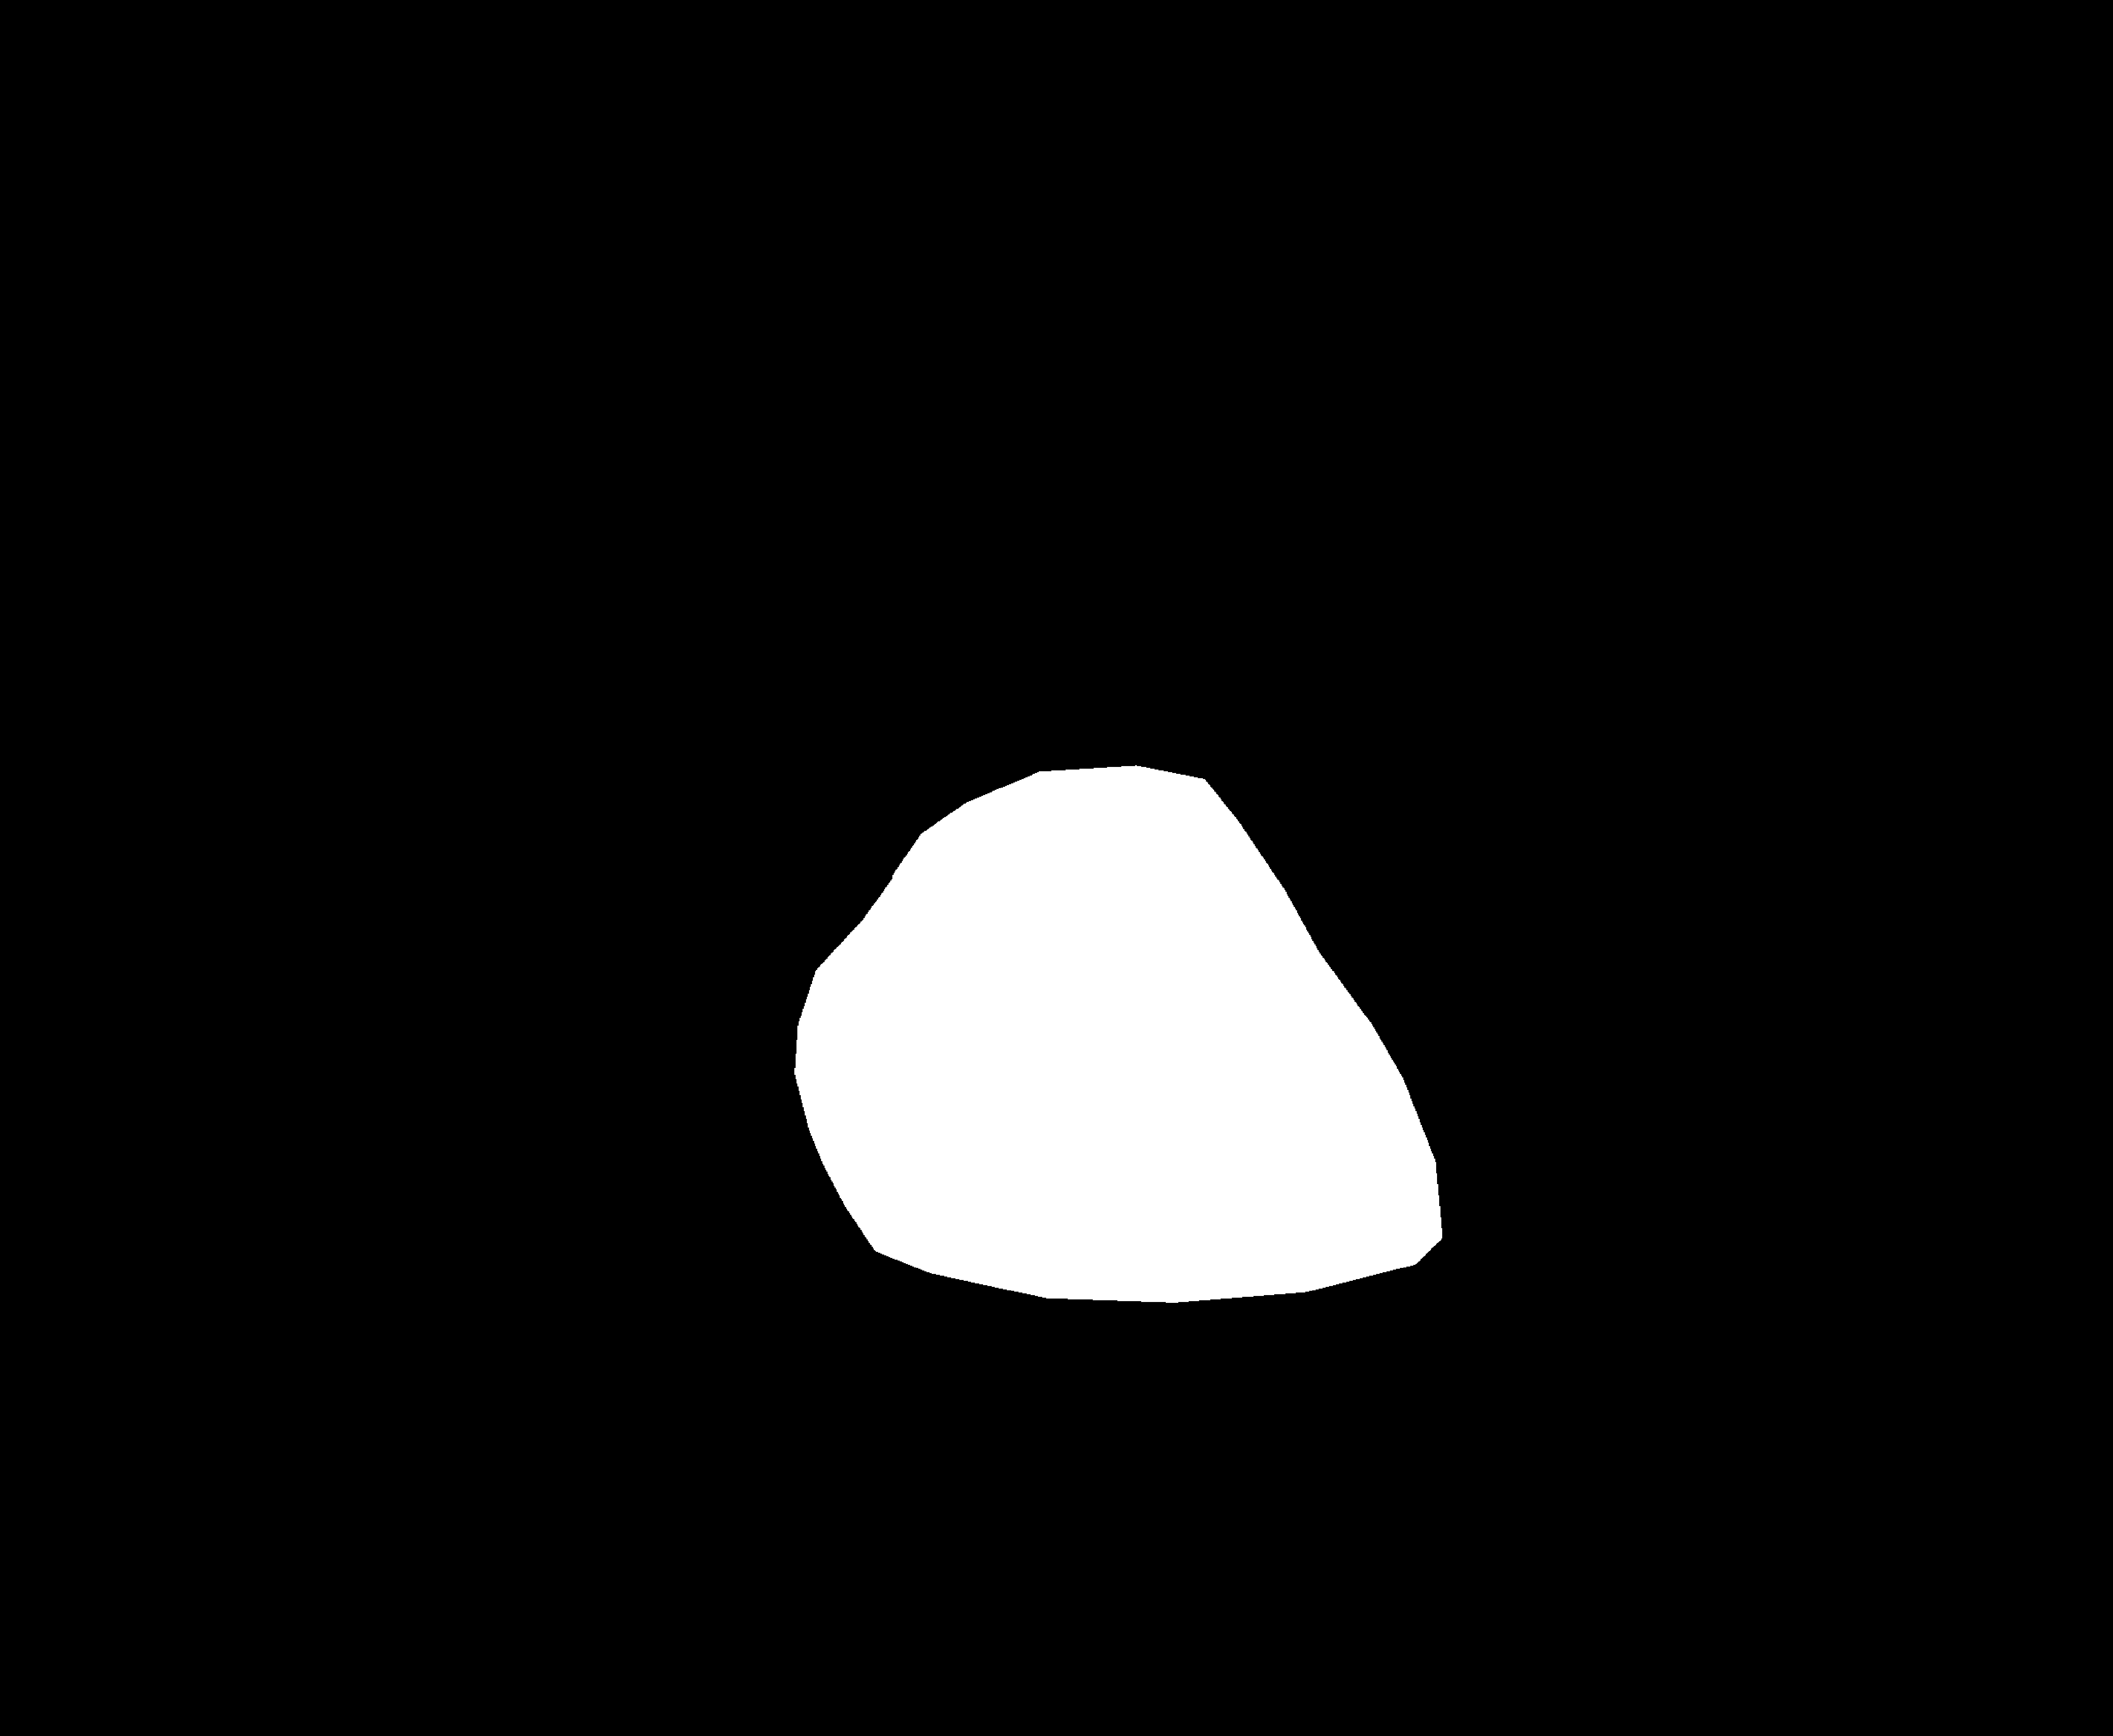heart: (791, 811, 1448, 1360)
left_lung: (240, 272, 990, 1527)
right_lung: (1123, 253, 1862, 1539)
